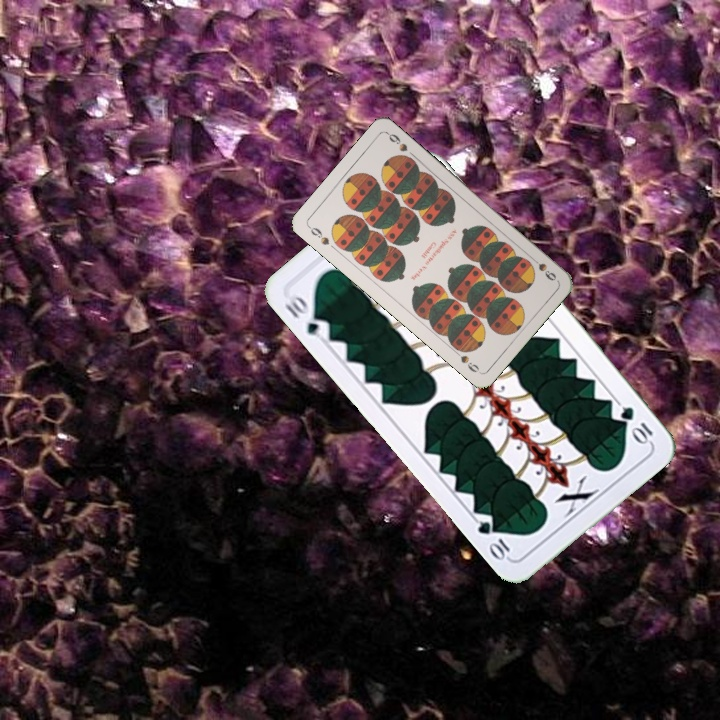G10: (280, 290, 333, 338), (616, 402, 656, 447)
S9: (526, 252, 559, 284), (304, 222, 332, 248)
